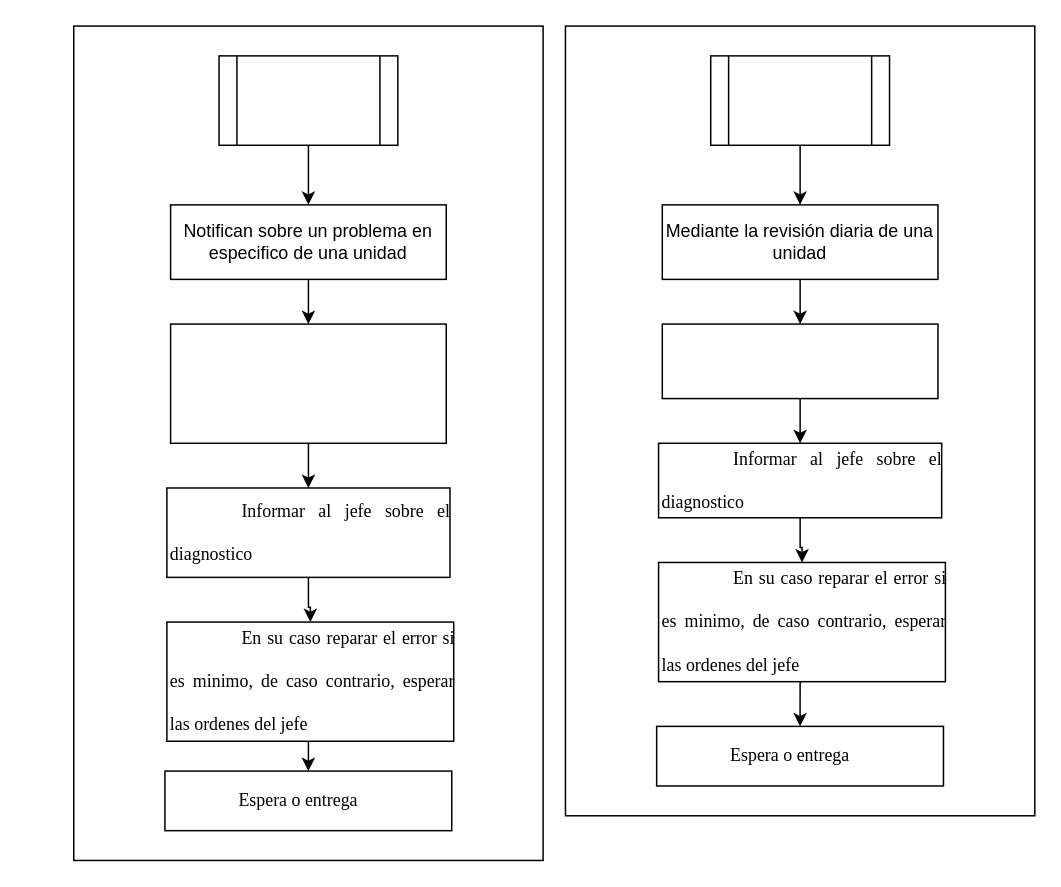
Some shapes in this 1061 by 887 pixel diagram are drawn without their labels. Each missing label, with the centre of its shape:
Diagnosticar la unidad lo antes posible: point 307,383
Diagnostico: point 799,361
Necesidad: point 308,99
Rutina: point 799,99
